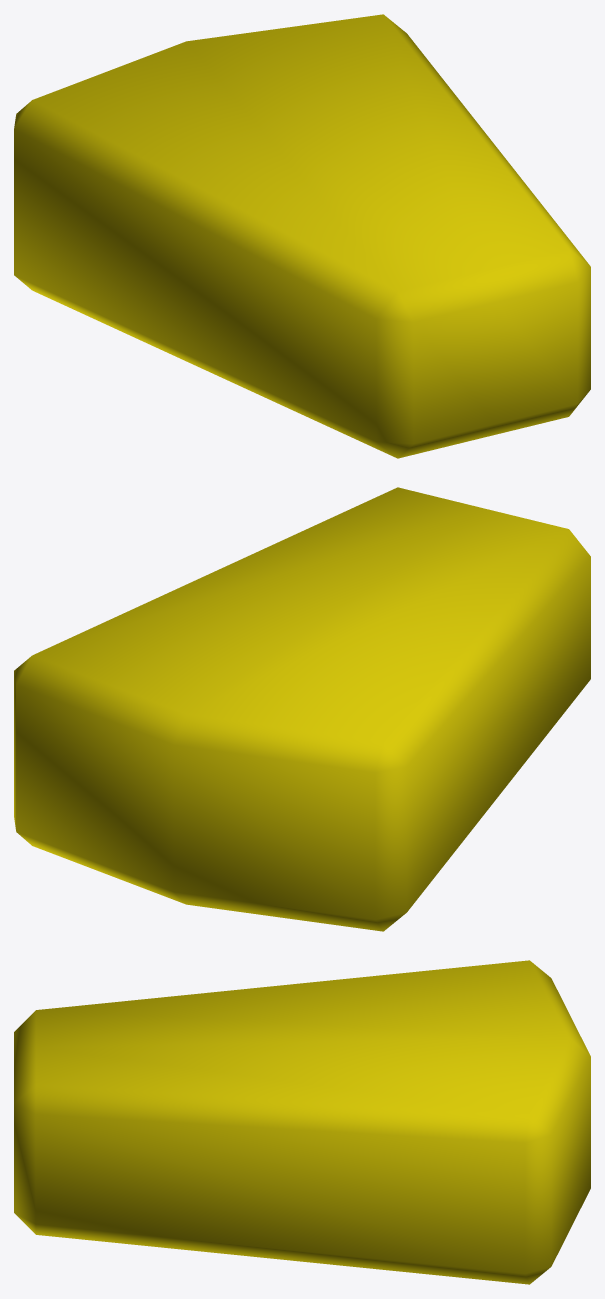
The model's file is pineapple.glb.
The picture shows the model from 3 angles, top to bottom: view 1: azimuth 30°, elevation 25°; view 2: azimuth 150°, elevation 25°; view 3: azimuth 270°, elevation 25°; orthographic projection. The views are drawn at different scales.
Parts seen in each view (by area): view 1: Cube.002; view 2: Cube.002; view 3: Cube.002.
Boxes of the visible parts, <box> form: Cube.002: <box>14,14,590,458</box>; Cube.002: <box>14,487,590,931</box>; Cube.002: <box>14,960,590,1284</box>.
Bounding box in the file's own units: 0.0562 × 0.026 × 0.0797.
